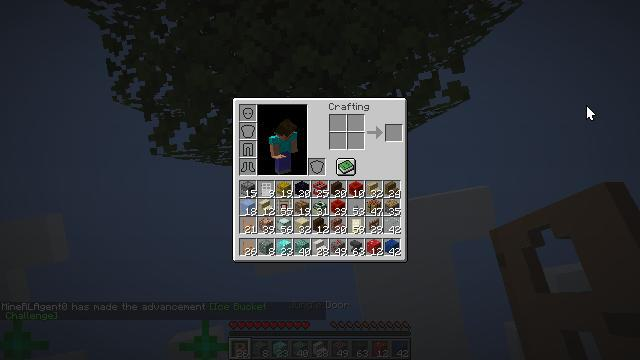cursor: (586, 105, 596, 121)
